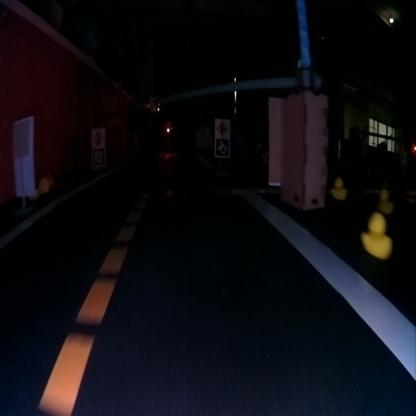Duckie: (361, 212, 389, 258), (331, 177, 346, 199), (379, 188, 391, 209), (38, 177, 49, 191)
Intersection sign: (214, 118, 230, 137)
QR code: (214, 139, 229, 156), (91, 147, 104, 165)
Signal sign: (92, 128, 104, 146)
